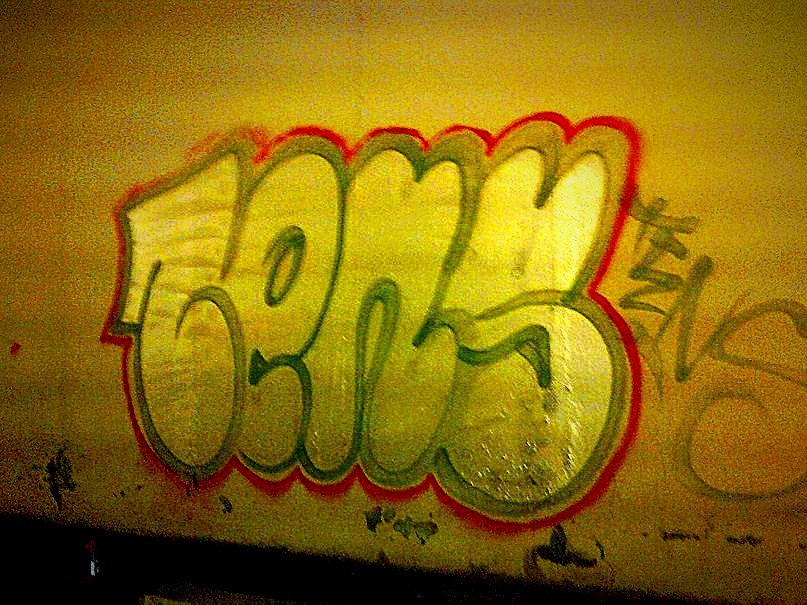graffity: (89, 105, 663, 532)
